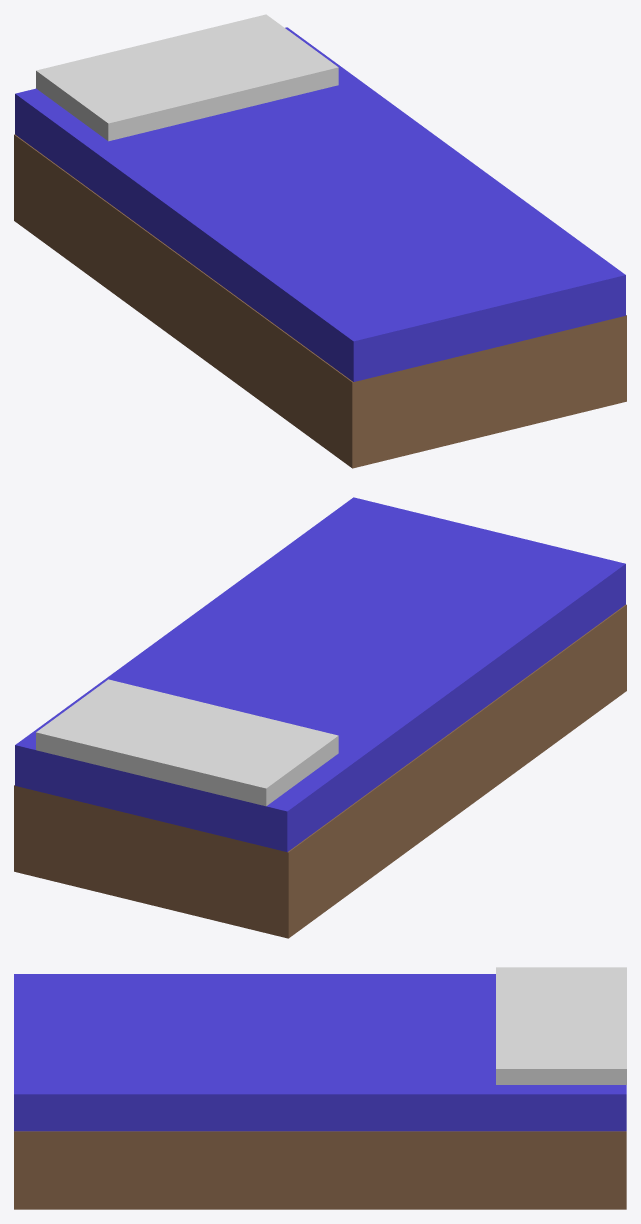
Rendered from The Bed.fbx.
3 renders of one model, top to bottom at view 1: azimuth 30°, elevation 25°; view 2: azimuth 150°, elevation 25°; view 3: azimuth 270°, elevation 25°, orthographic. The views are drawn at different scales.
Visible parts, largest first — view 1: Base Bed; view 2: Base Bed; view 3: Base Bed.
Part boxes in pixels (x1=…): Base Bed: x1=14, y1=14, x2=626, y2=468; Base Bed: x1=14, y1=497, x2=626, y2=938; Base Bed: x1=14, y1=967, x2=626, y2=1209.
Bounding box in the file's own units: 200 × 101 × 427.
